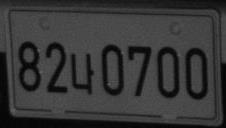0: (183, 46, 208, 100), (100, 42, 124, 96), (156, 45, 180, 99)
2: (45, 41, 68, 93)
7: (126, 45, 152, 97)
8: (16, 40, 42, 92)
나: (69, 52, 94, 95)
